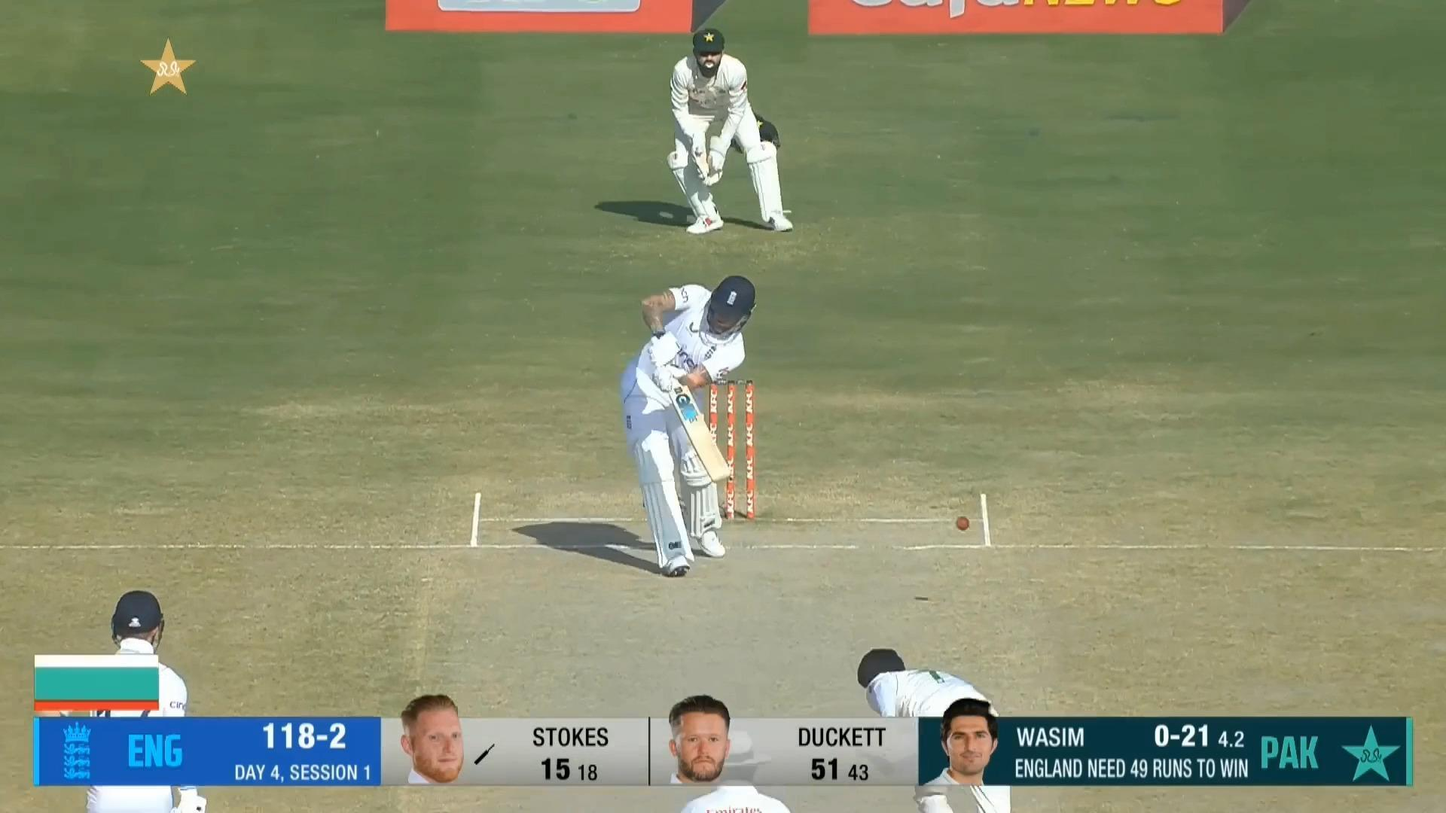BM 1: (618, 272, 759, 578)
BO: (859, 649, 999, 716)
